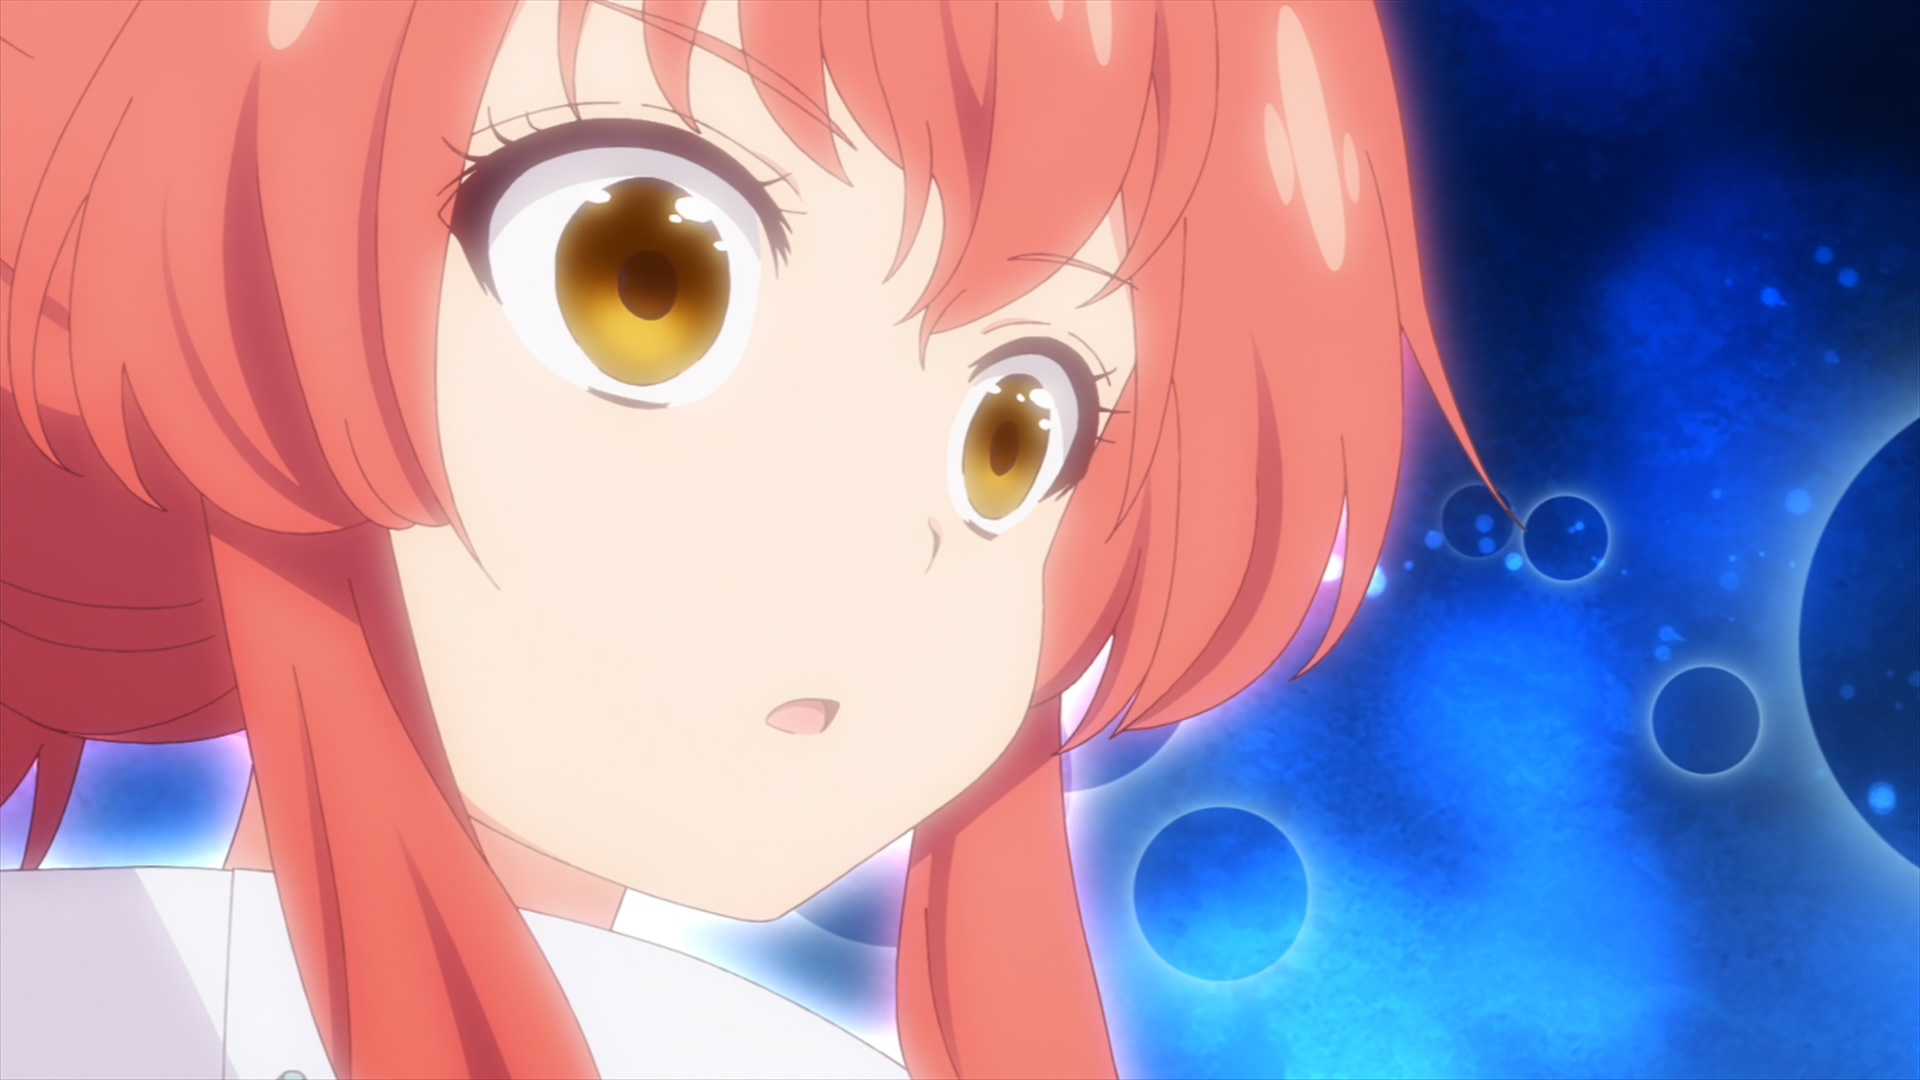椿: (1, 1, 1527, 1080)
